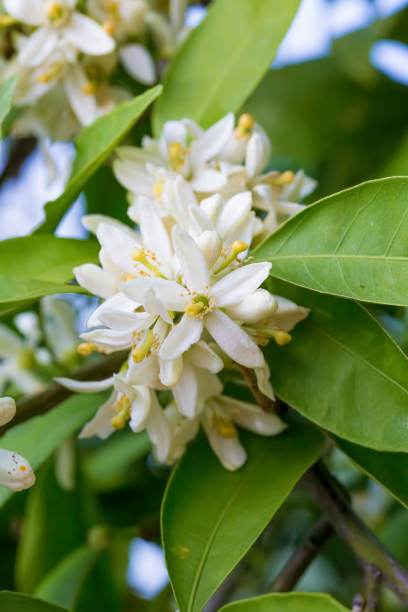flower: (131, 232, 274, 389), (168, 357, 299, 471), (128, 118, 227, 209), (0, 1, 113, 77)
